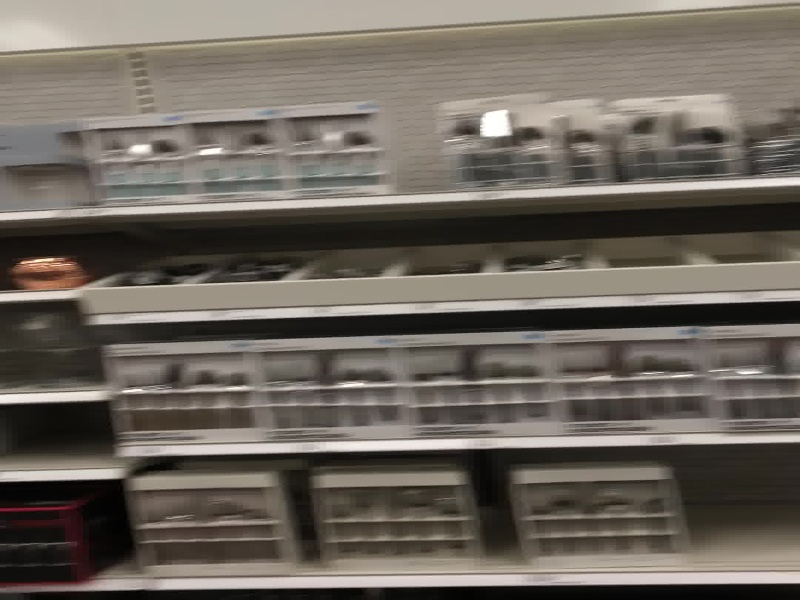empty_shelf_space: (684, 443, 800, 569), (1, 399, 109, 465)
